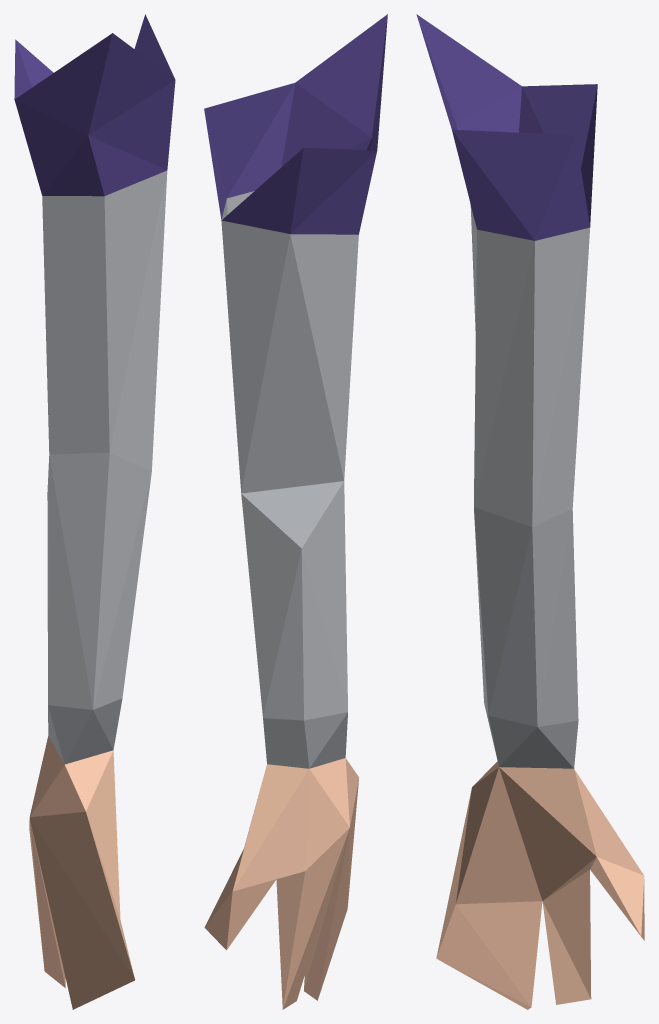
File: ArmL.obj
3 views of the same model, side by side, from view 1: azimuth 30°, elevation 25°; view 2: azimuth 150°, elevation 25°; view 3: azimuth 270°, elevation 25° (orthographic). The views are drawn at different scales.
Bounding box in the file's own units: 0.1471 × 0.9071 × 0.19.
1 material, 1 textured.
